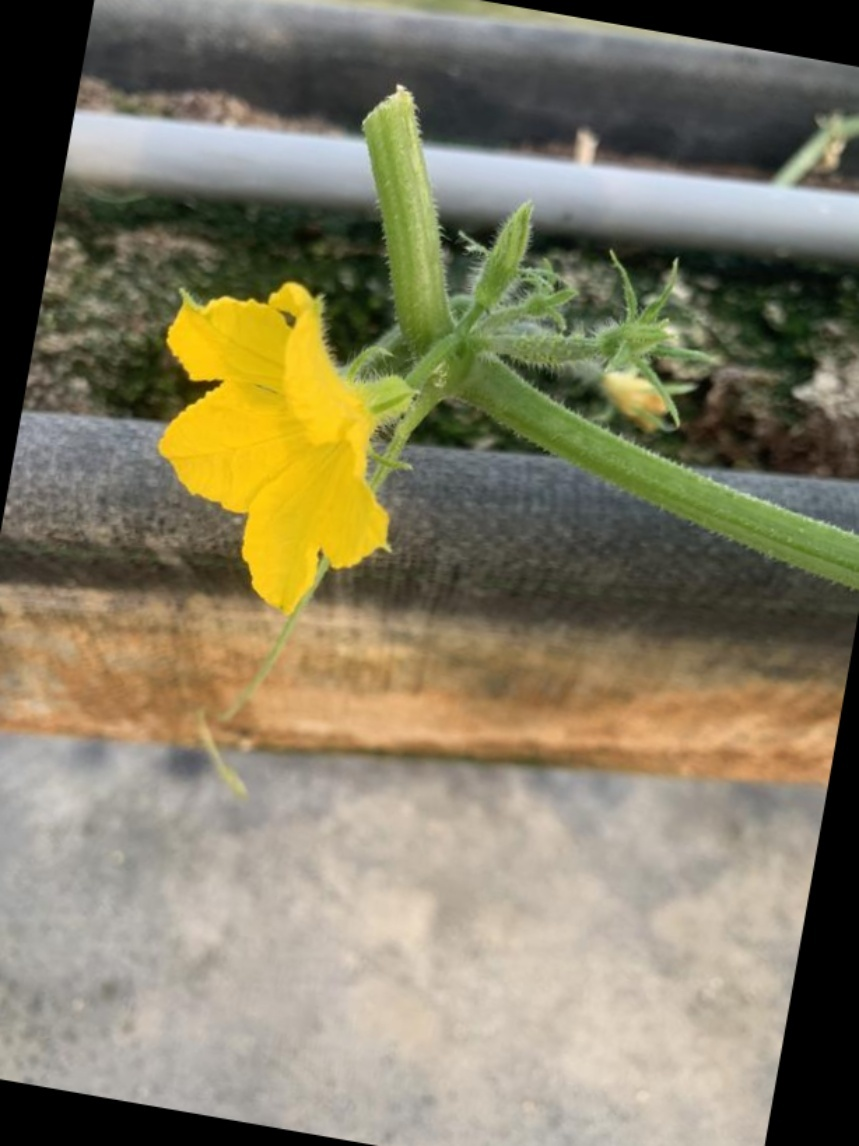flowering: (140, 278, 465, 618)
